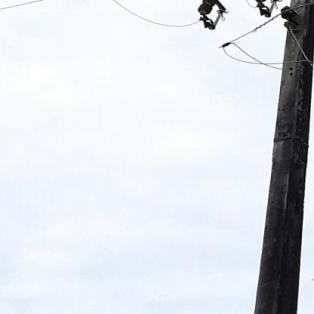Poste: (246, 0, 314, 312)
